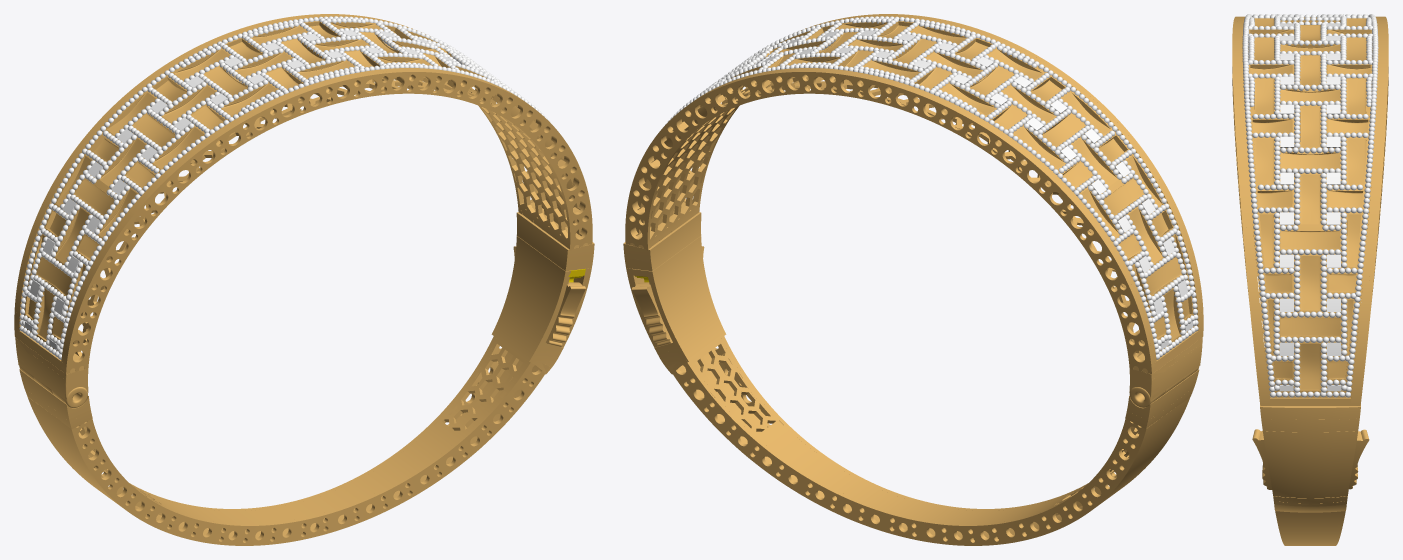
Rendered from ZAR-4.glb.
3 renders of one model, left to right at view 1: azimuth 30°, elevation 25°; view 2: azimuth 150°, elevation 25°; view 3: azimuth 270°, elevation 25°, orthographic. The views are drawn at different scales.
Parts seen in each view (by area): view 1: object_53.001, object_23.001; view 2: object_53.001, object_23.001; view 3: object_53.001, object_23.001.
Boxes of the visible parts, x1,y1,x2,y2 form: object_53.001: (14, 14, 594, 545); object_23.001: (19, 16, 552, 359); object_53.001: (623, 14, 1203, 545); object_23.001: (665, 16, 1198, 359); object_53.001: (1232, 16, 1388, 545); object_23.001: (1242, 14, 1378, 397).
Size of the model in its own units: 18.07 by 15.59 by 4.71.
